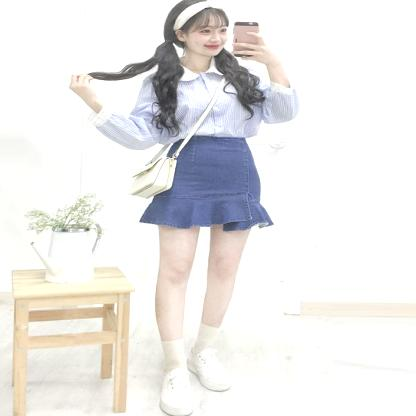dress: (80, 60, 301, 153)
jacket: (147, 124, 276, 228)
